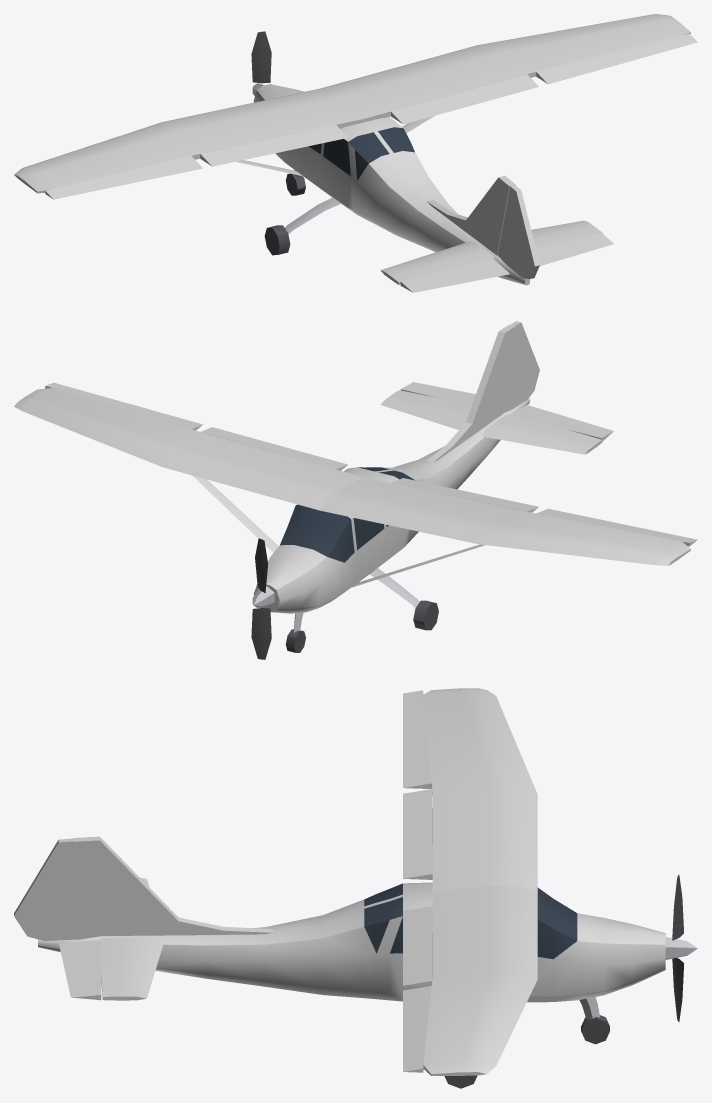
Rendered from Cessna_172_LOD0.glb.
3 renders of one model, top to bottom at view 1: azimuth 30°, elevation 25°; view 2: azimuth 150°, elevation 25°; view 3: azimuth 270°, elevation 25°, orthographic. The views are drawn at different scales.
Visible parts, largest first — view 1: Fuselage, Wing_Right, Wing_Left, Elevator, Rudder, VerticalTail, Flap_Right, Flap_Left, Aileron_Right, HorizontalTail_Left, Aileron_Left, HorizontalTail_Right (+3 smaller); view 2: Wing_Right, Fuselage, Wing_Left, VerticalTail, HorizontalTail_Left, Elevator, HorizontalTail_Right, Rudder, Propeller, Flap_Right, Aileron_Right, Flap_Left (+3 smaller); view 3: Fuselage, Wing_Left, Wing_Right, VerticalTail, Rudder, HorizontalTail_Right, Flap_Left, Aileron_Left, Flap_Right, Elevator, Aileron_Right, Propeller (+1 smaller).
Boxes of the visible parts, bbox=[...] form: Fuselage: bbox=[253, 84, 529, 285]; Wing_Right: bbox=[320, 14, 690, 122]; Wing_Left: bbox=[14, 88, 363, 193]; Elevator: bbox=[400, 232, 613, 292]; Rudder: bbox=[497, 185, 539, 279]; VerticalTail: bbox=[427, 175, 515, 255]; Flap_Right: bbox=[391, 74, 538, 124]; Flap_Left: bbox=[200, 125, 348, 166]; Aileron_Right: bbox=[536, 33, 697, 84]; HorizontalTail_Left: bbox=[380, 241, 495, 284]; Aileron_Left: bbox=[45, 156, 202, 199]; HorizontalTail_Right: bbox=[531, 220, 602, 247]; Wing_Right: bbox=[14, 388, 362, 510]; Fuselage: bbox=[253, 397, 529, 613]; Wing_Left: bbox=[320, 477, 690, 565]; VerticalTail: bbox=[427, 324, 515, 462]; HorizontalTail_Left: bbox=[482, 414, 602, 454]; Elevator: bbox=[400, 382, 613, 440]; HorizontalTail_Right: bbox=[380, 390, 471, 429]; Rudder: bbox=[503, 321, 539, 412]; Propeller: bbox=[251, 538, 271, 659]; Flap_Right: bbox=[201, 427, 347, 470]; Aileron_Right: bbox=[45, 382, 202, 430]; Flap_Left: bbox=[391, 478, 538, 512]; Fuselage: bbox=[38, 882, 665, 1002]; Wing_Left: bbox=[423, 688, 537, 892]; Wing_Right: bbox=[423, 886, 537, 1075]; VerticalTail: bbox=[73, 836, 273, 935]; Rudder: bbox=[14, 838, 103, 941]; HorizontalTail_Right: bbox=[100, 937, 163, 1000]; Flap_Left: bbox=[403, 789, 432, 879]; Aileron_Left: bbox=[403, 690, 431, 788]; Flap_Right: bbox=[403, 906, 432, 986]; Elevator: bbox=[59, 940, 101, 1000]; Aileron_Right: bbox=[403, 986, 431, 1072]; Propeller: bbox=[672, 874, 683, 1022].
Bounding box in the file's own units: 11 × 2.72 × 8.28.
